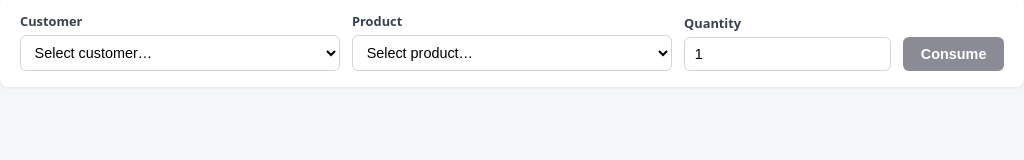
Test case: ConsumeForm › retries a transient failure and reuses the same idempotency key each attempt
The width and height of the screenshot is (1024, 160).
Select "Acme ($2.50)" in the dropdown labelled "Customer" at {"x": 180, "y": 53}, box [20,35,340,71]
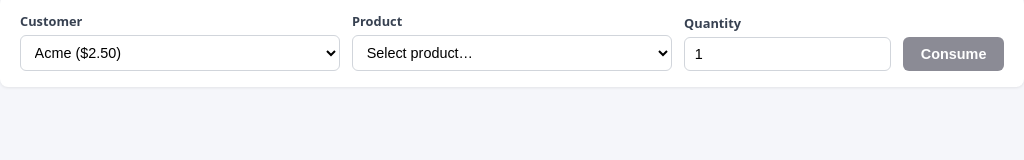
Select "Widget ($2.50/unit)" in the dropdown labelled "Product" at {"x": 512, "y": 53}, box [352,35,672,71]
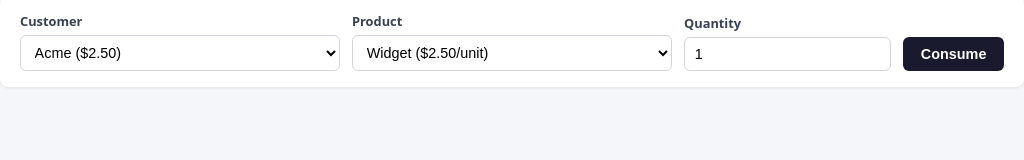
Replace the text in the number field labelled "Quantity" with "3" at {"x": 788, "y": 54}, box [684,37,891,71]
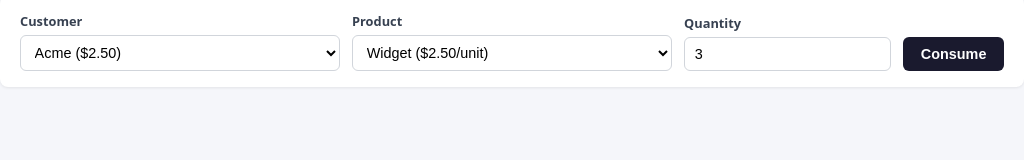
Click the button "Consume".
click(954, 54)  # box [903,37,1004,71]
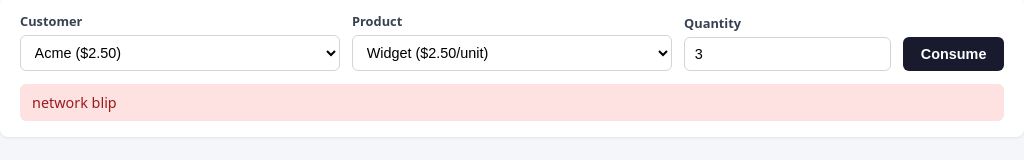
Expected: the message reads "network blip", [32,93,117,112]
